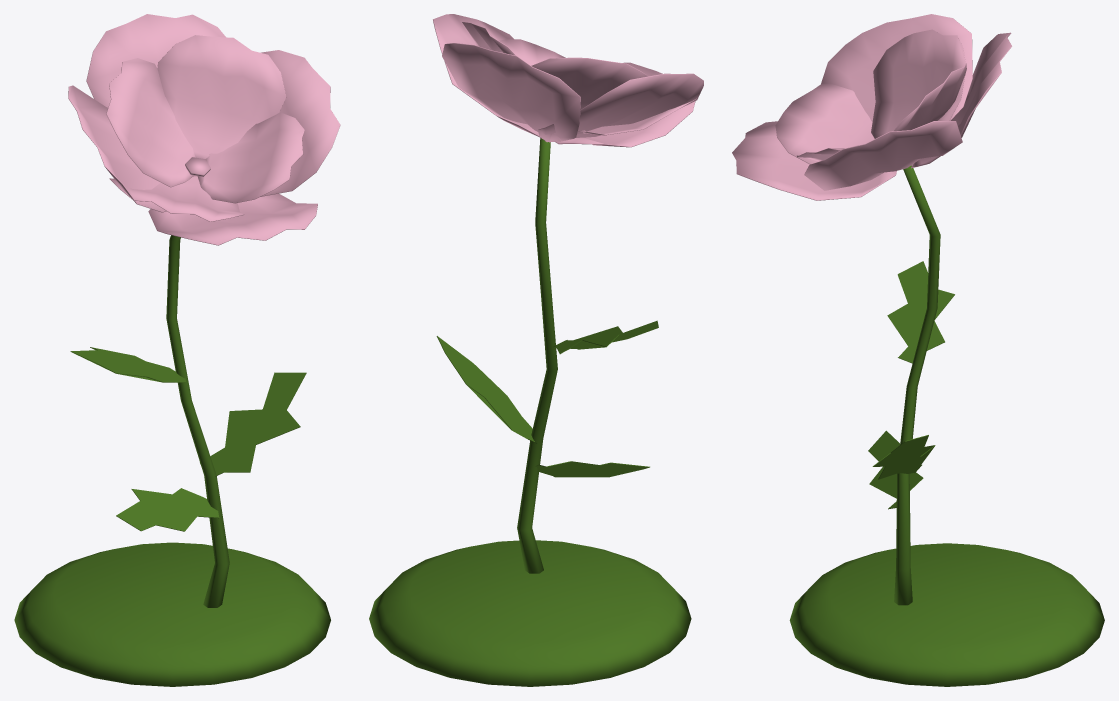
Rendered from Flower.fbx.
3 views of the same model, side by side, from view 1: azimuth 30°, elevation 25°; view 2: azimuth 150°, elevation 25°; view 3: azimuth 270°, elevation 25° (orthographic). The views are drawn at different scales.
Visible parts, largest first — view 1: Flower, Circle.006, Circle.004, Circle.007, Circle.003, Circle.002, Circle.001, Circle.009, Circle.008, Circle, Circle.011, Circle.005 (+1 smaller); view 2: Flower, Circle.002, Circle.009, Circle, Circle.004, Circle.008, Circle.001, Circle.003, Circle.011, Circle.010, Circle.007, Circle.005 (+1 smaller); view 3: Flower, Circle.004, Circle.003, Circle, Circle.009, Circle.005, Circle.001, Circle.010, Circle.002, Circle.006, Circle.008, Circle.011.
Boxes of the visible parts, left/top/right/bottom form: Flower: left=14, top=542, right=330, bottom=686; Circle.006: left=157, top=35, right=286, bottom=159; Circle.004: left=106, top=58, right=195, bottom=187; Circle.007: left=197, top=112, right=304, bottom=203; Circle.003: left=260, top=50, right=340, bottom=196; Circle.002: left=86, top=14, right=225, bottom=107; Circle.001: left=148, top=193, right=317, bottom=245; Circle.009: left=166, top=235, right=229, bottom=607; Circle.008: left=200, top=372, right=306, bottom=476; Circle: left=68, top=85, right=166, bottom=212; Circle.011: left=116, top=488, right=219, bottom=531; Circle.005: left=109, top=175, right=244, bottom=221; Flower: left=369, top=540, right=691, bottom=686; Circle.002: left=442, top=43, right=580, bottom=142; Circle.009: left=517, top=138, right=557, bottom=573; Circle: left=538, top=73, right=703, bottom=142; Circle.004: left=531, top=57, right=648, bottom=109; Circle.008: left=436, top=336, right=536, bottom=443; Circle.001: left=555, top=62, right=695, bottom=147; Circle.003: left=433, top=14, right=545, bottom=140; Circle.011: left=535, top=461, right=649, bottom=477; Circle.010: left=553, top=320, right=658, bottom=354; Circle.007: left=498, top=39, right=565, bottom=65; Circle.005: left=578, top=98, right=697, bottom=135; Flower: left=789, top=543, right=1104, bottom=686; Circle.004: left=871, top=29, right=965, bottom=138; Circle.003: left=804, top=121, right=962, bottom=190; Circle: left=821, top=14, right=972, bottom=121; Circle.009: left=894, top=165, right=940, bottom=605; Circle.005: left=775, top=83, right=874, bottom=164; Circle.001: left=732, top=121, right=896, bottom=200; Circle.010: left=887, top=261, right=954, bottom=363; Circle.002: left=911, top=32, right=1011, bottom=168; Circle.006: left=894, top=63, right=966, bottom=131; Circle.008: left=872, top=435, right=935, bottom=479; Circle.011: left=868, top=430, right=923, bottom=509.
Bounding box in the file's own units: 0.2598 × 0.5254 × 0.3073.
